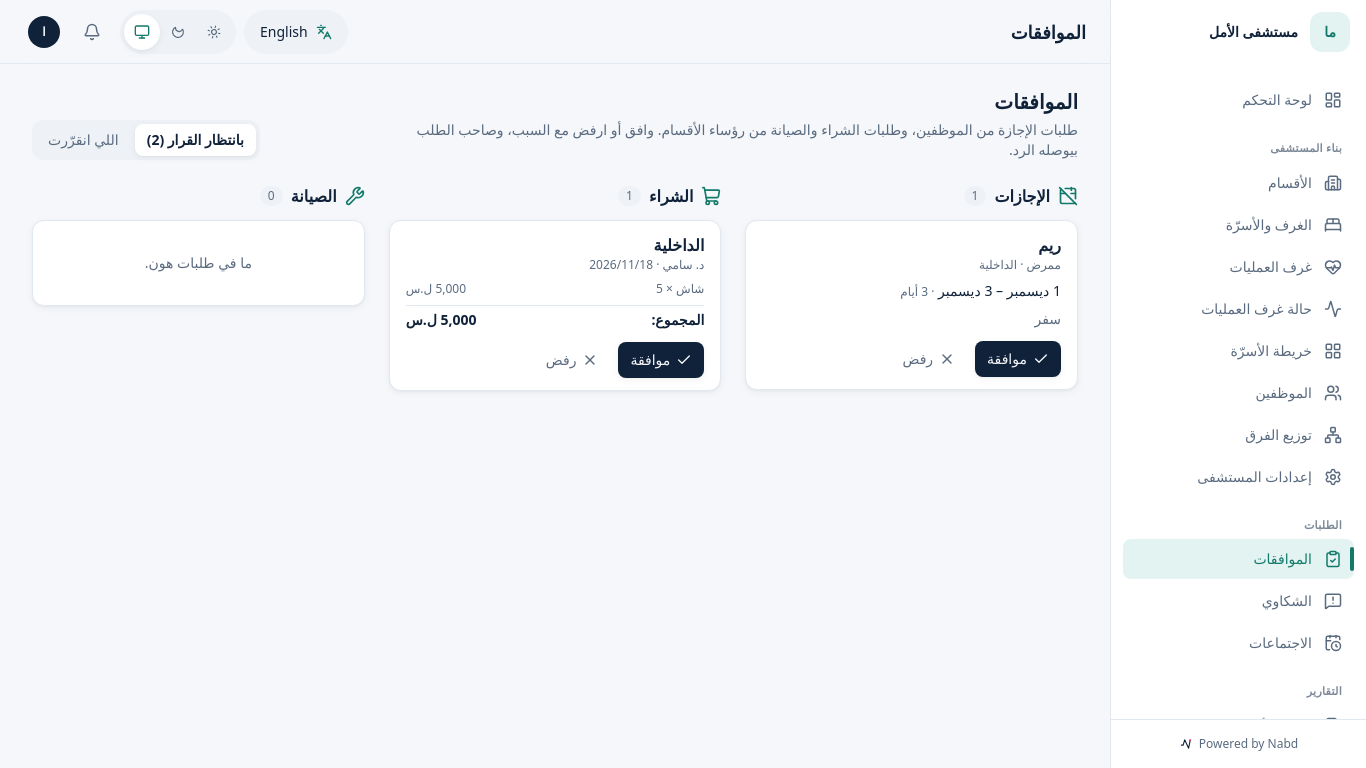
Test: ApprovalsPage (task 4.7) › approves a leave, and rejects a purchase only with a reason
This screenshot has width=1366, height=768.
Expected: the list item "ريم" shows "3 أيام", [900,283,928,300]
Click the button "موافقة" below "ريم" at x=1018, y=359, box [975,341,1061,377]
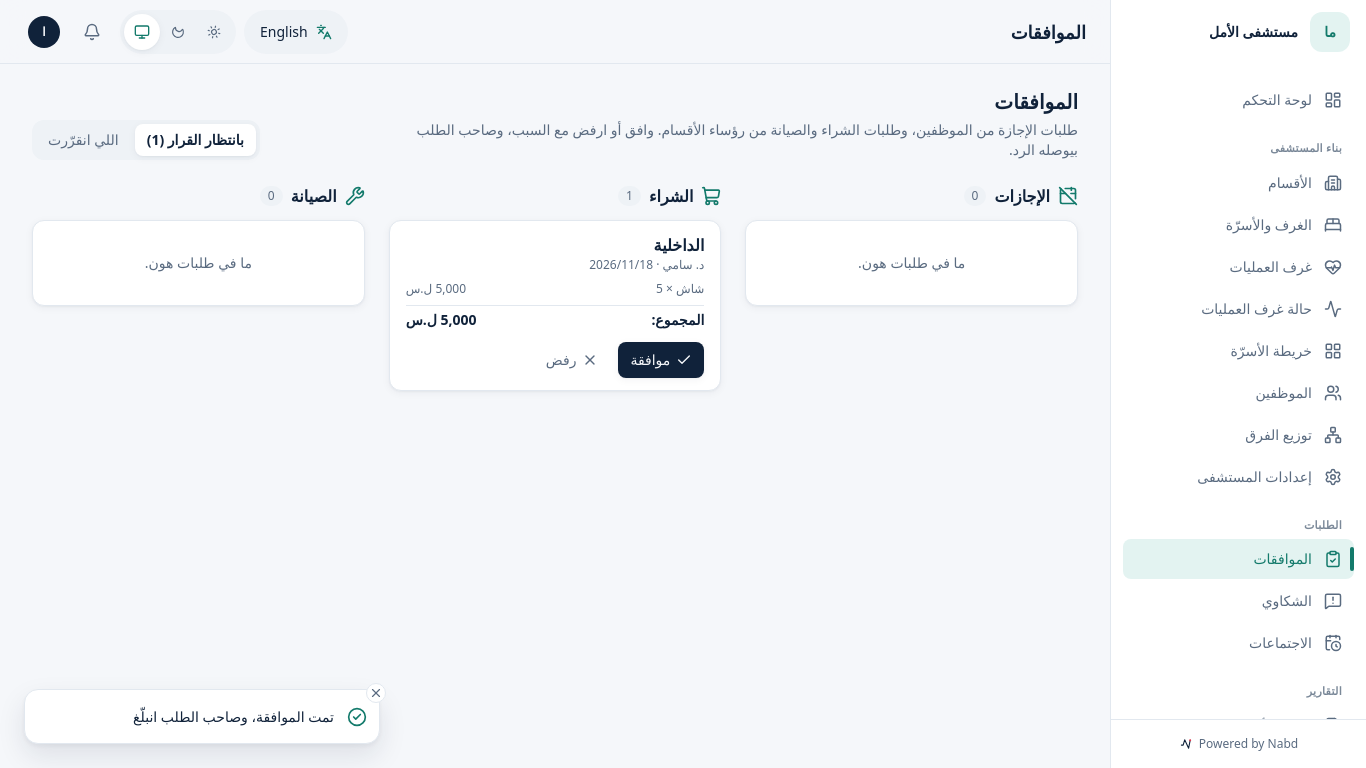
Expected: the element "الشراء" shows "شاش × 5", [389,184,721,391]
Result: the text "ما في طلبات هون." below "الإجازات" is shown at [858,253,965,272]
Click the button "رفض" at x=572, y=360, box [534,342,610,378]
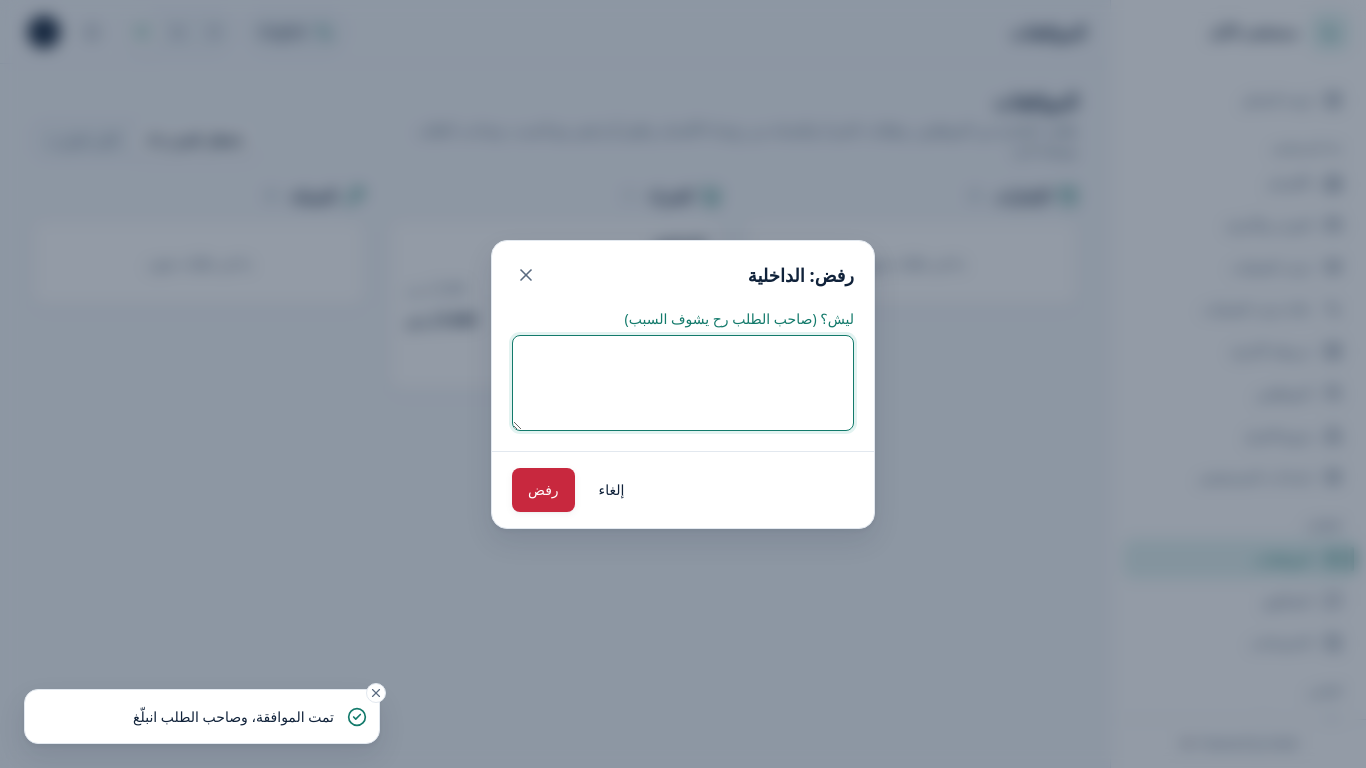
Click the button "رفض" at x=543, y=490, box [512,468,575,512]
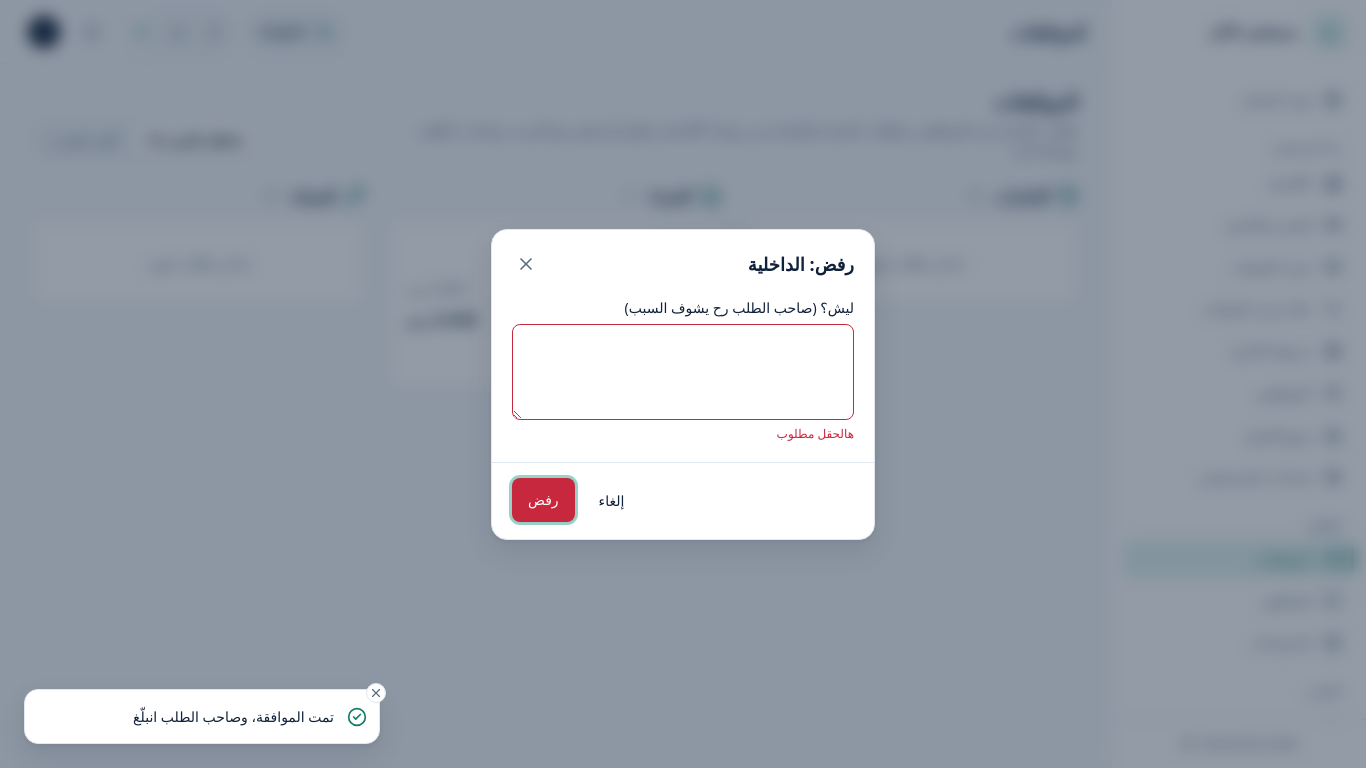
Result: the text "هالحقل مطلوب" is shown at [777,424,854,442]
Type "الميزانية خلصت" into the text box labelled "ليش؟ (صاحب الطلب رح يشوف السبب)" at x=683, y=372, box [512,324,854,420]
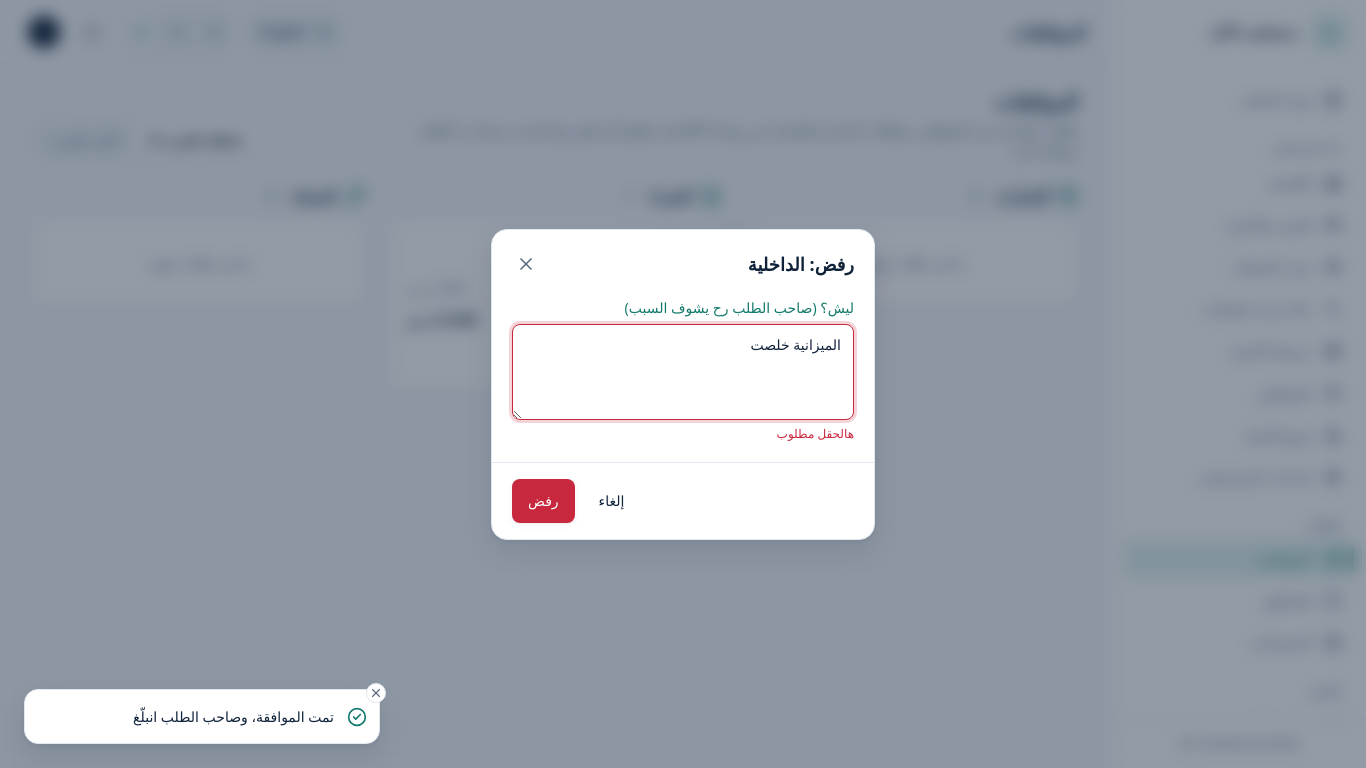
Click the button "رفض" at x=543, y=500, box [512,478,575,522]
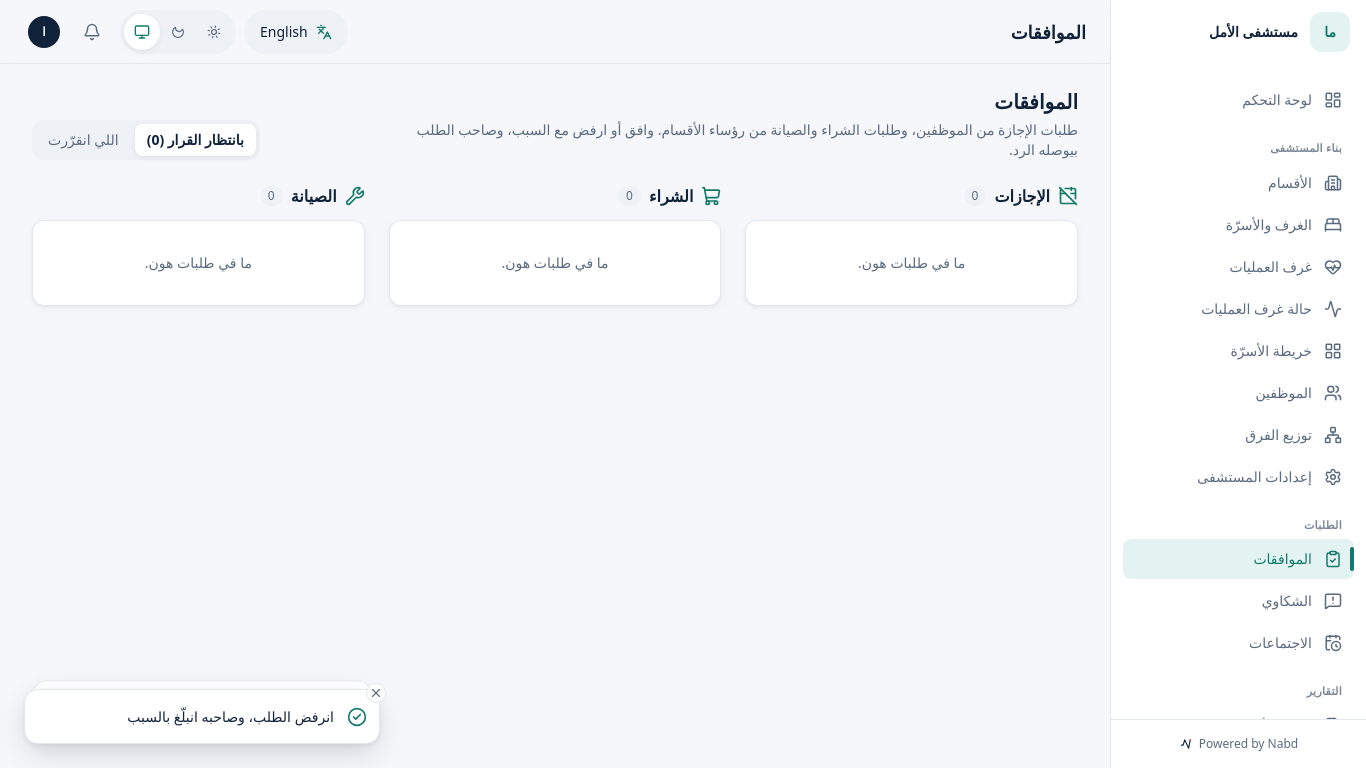
Result: the 2nd text "ما في طلبات هون." is shown at [389,220,721,306]
